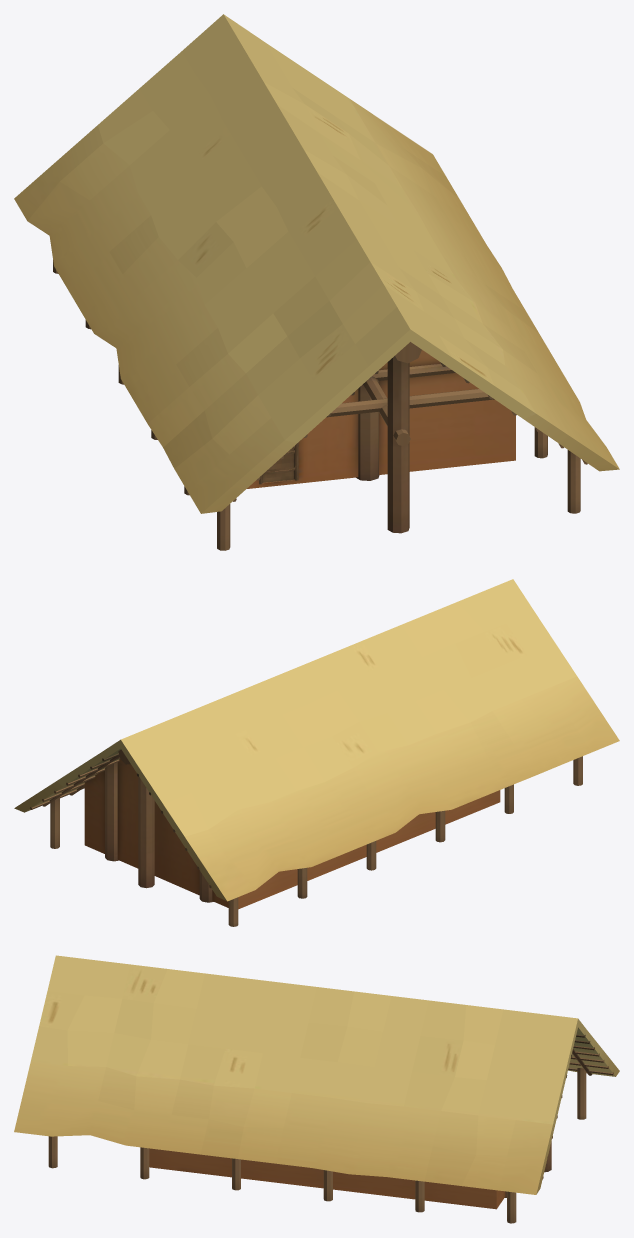
3 renders of one model, top to bottom at view 1: azimuth 30°, elevation 25°; view 2: azimuth 150°, elevation 25°; view 3: azimuth 270°, elevation 25°, orthographic. The views are drawn at different scales.
Parts seen in each view (by area): view 1: House; view 2: House; view 3: House.
Boxes of the visible parts, left/top/right/bottom form: House: left=14, top=14, right=619, bottom=550; House: left=14, top=579, right=619, bottom=926; House: left=14, top=955, right=619, bottom=1223.
Size of the model in its own units: 14.45 by 5.59 by 19.79.
Materials: 1 (1 with a texture image).
